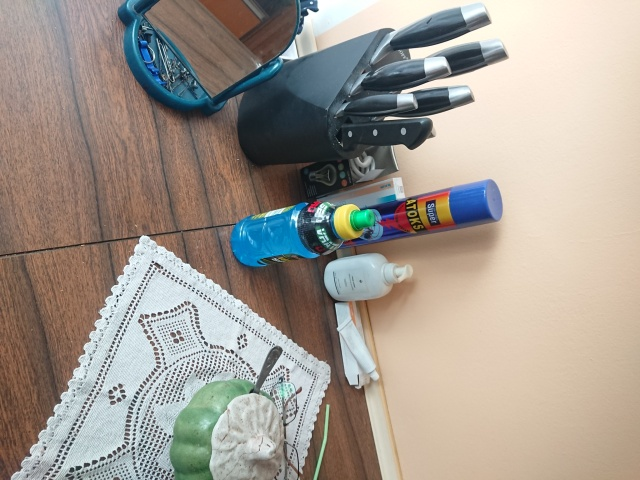Vindi Iso Sport Forest Strawberries 500mL: (228, 198, 376, 268)
